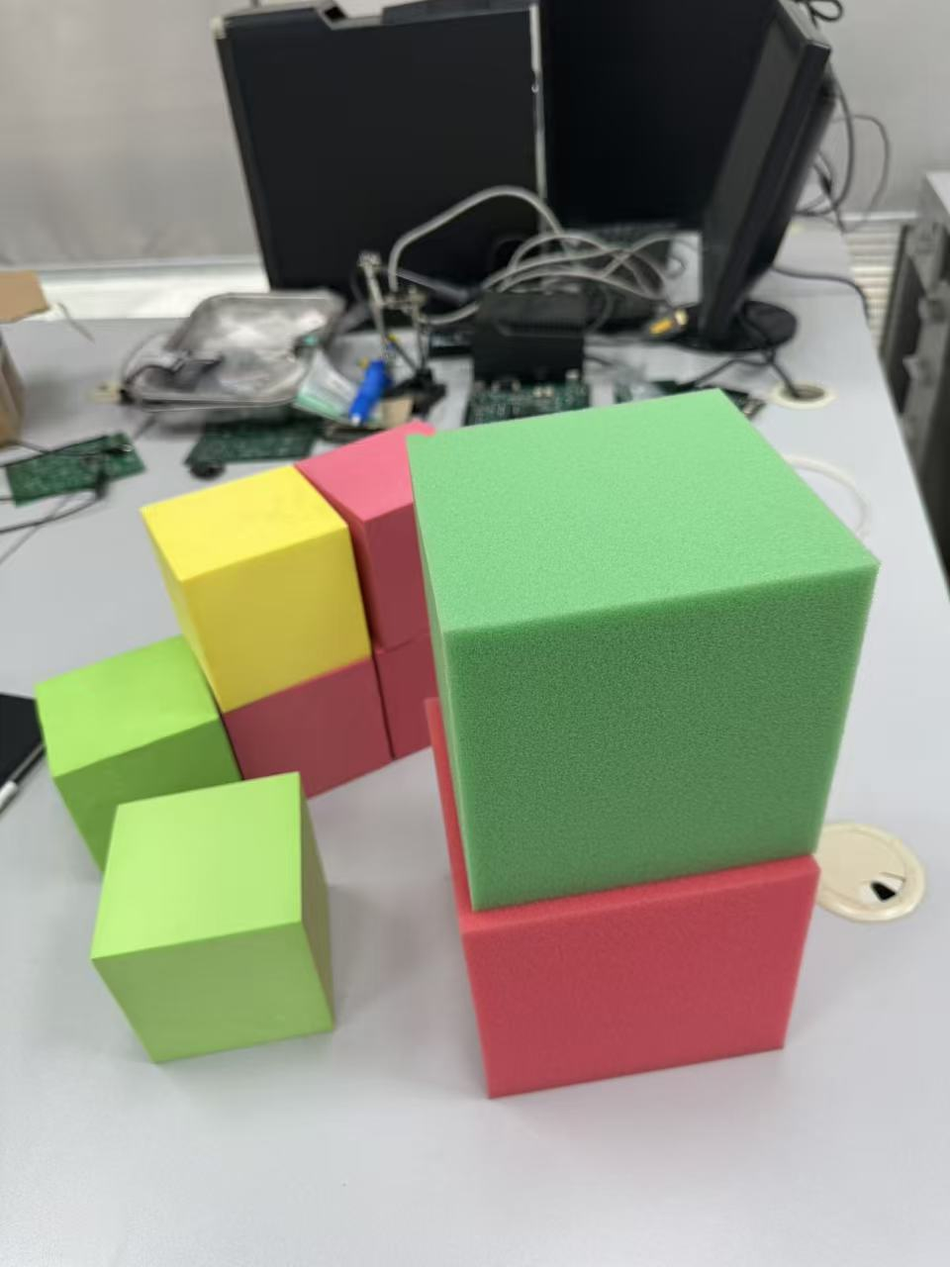green_large: (407, 390, 879, 914)
green_small: (87, 771, 338, 1063), (35, 630, 251, 873)
red_large: (424, 693, 818, 1105)
red_small: (221, 641, 392, 810)
